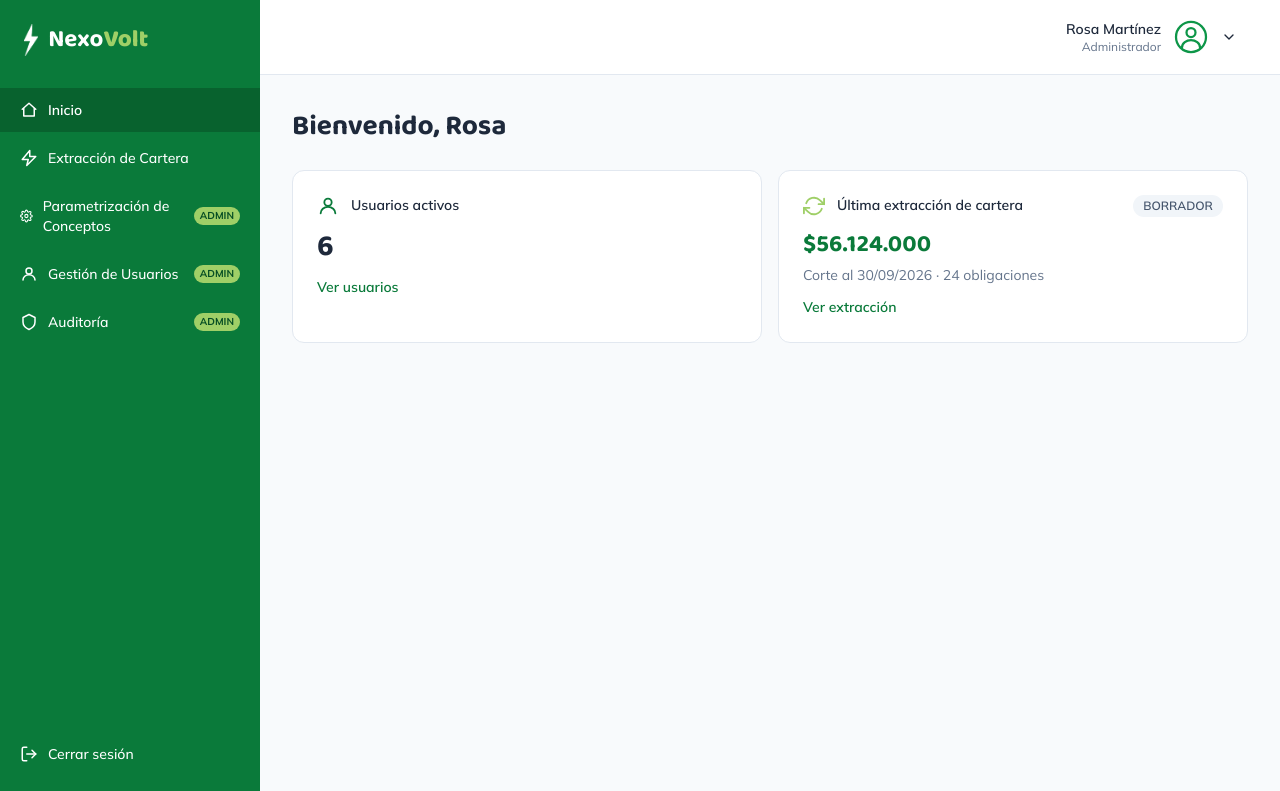
estructura de las pantallas internas › cada cambio de pantalla se anuncia a los lectores de pantalla
The width and height of the screenshot is (1280, 791).
Expected: the heading "Bienvenido, Rosa" is shown, [292, 107, 506, 146]
Click the link "Extracción de Cartera" at x=104, y=158, box [20, 149, 189, 167]
(page scrolled)
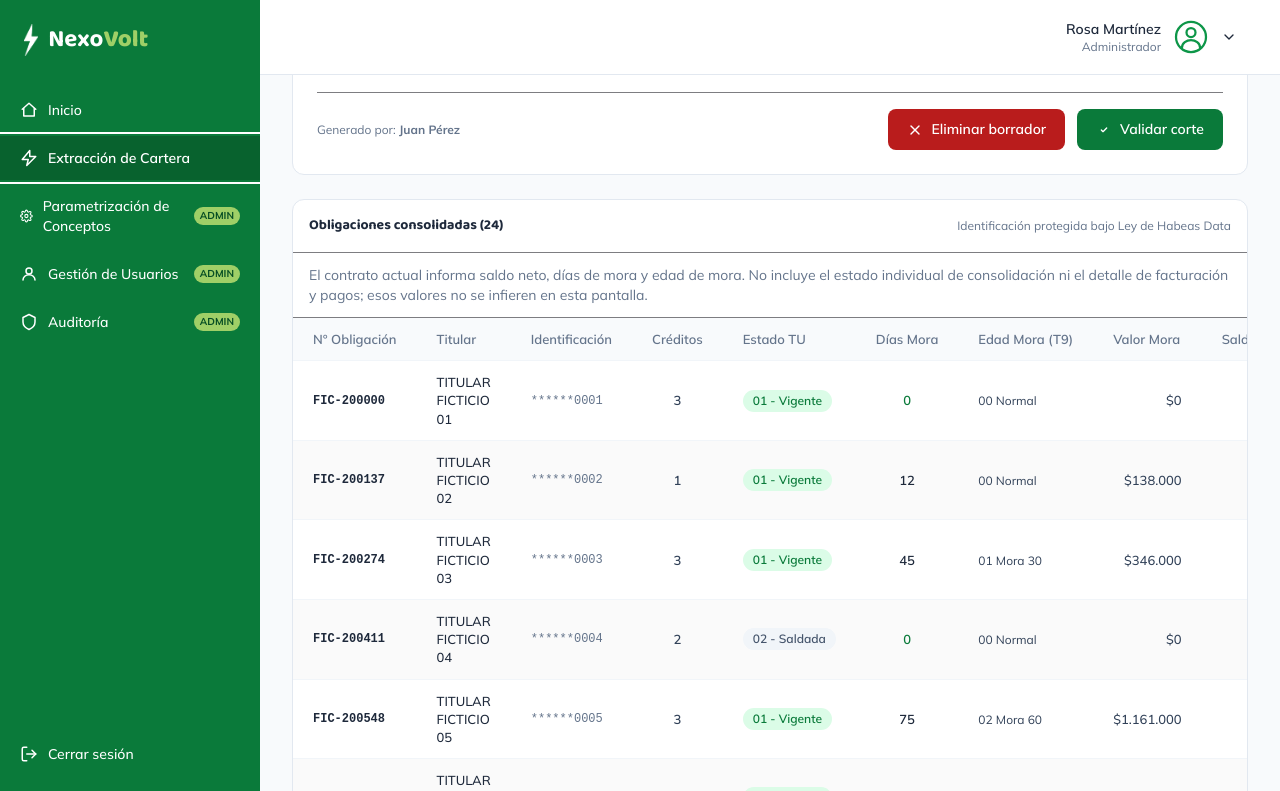
Now the text "TITULAR FICTICIO 01" is shown, box [416, 361, 511, 440]
